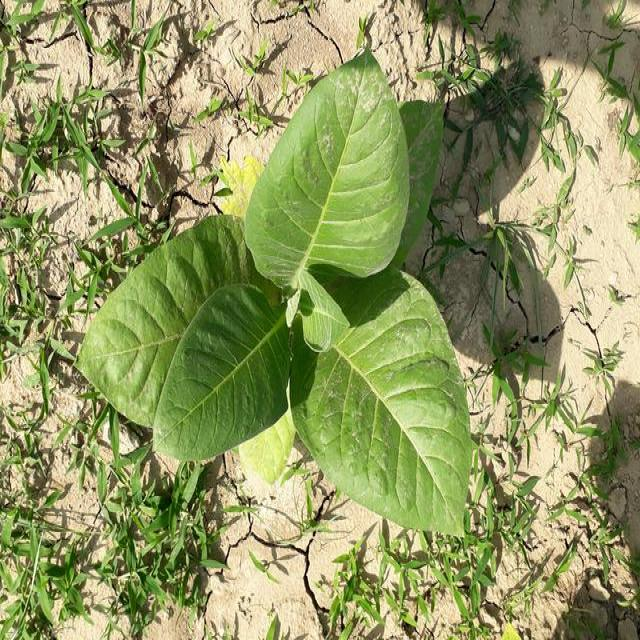crop: (71, 63, 472, 541)
